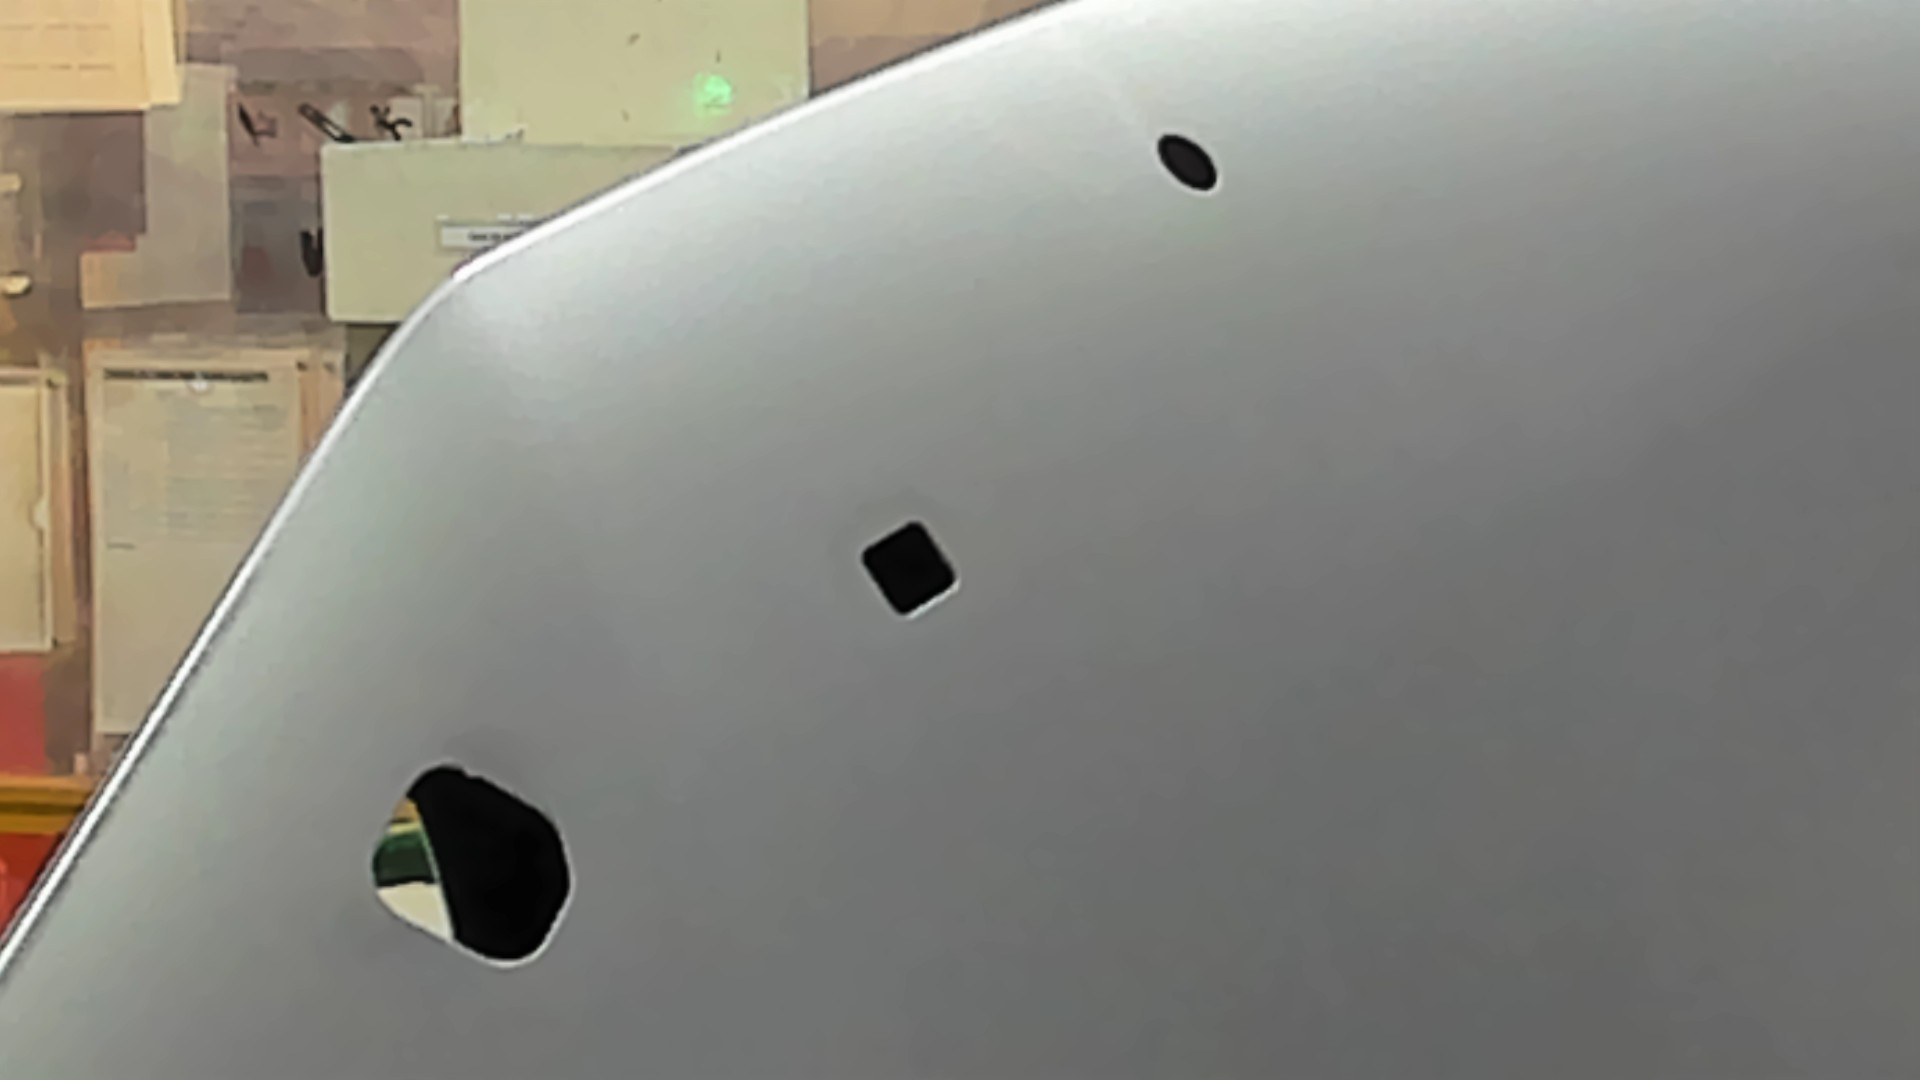chico: (1141, 120, 1237, 204)
grande: (363, 752, 597, 978)
mediano: (848, 506, 975, 626)
